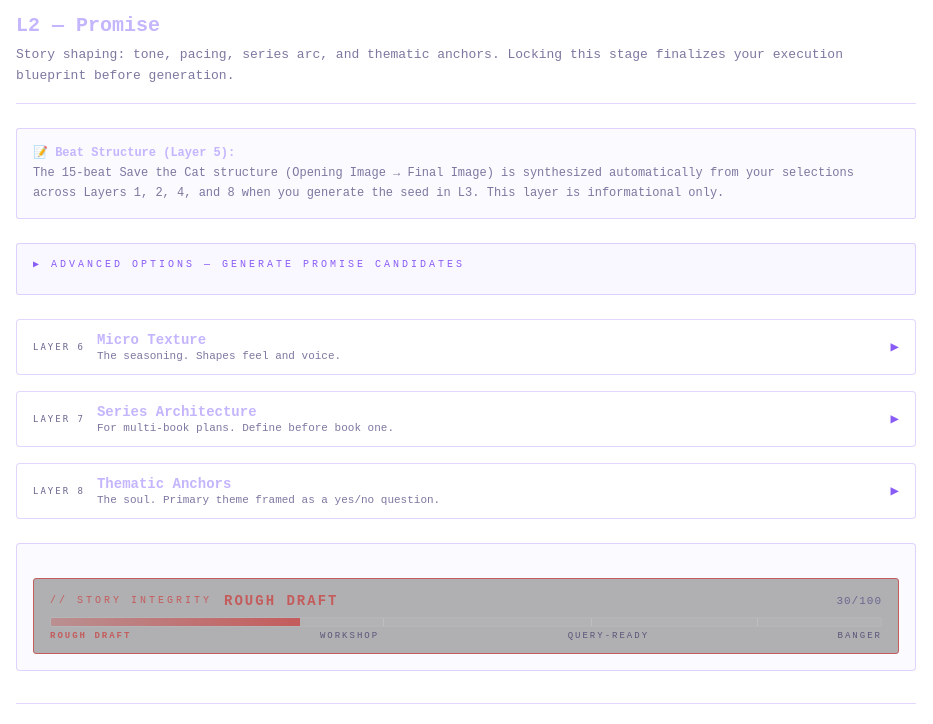
Test case: L2Promise › allows picking a candidate
# Open advanced options and generate
Click the text "▶ ADVANCED OPTIONS — GENERATE PROMISE CANDIDATES" at (249, 264), box 33,259 -> 465,270
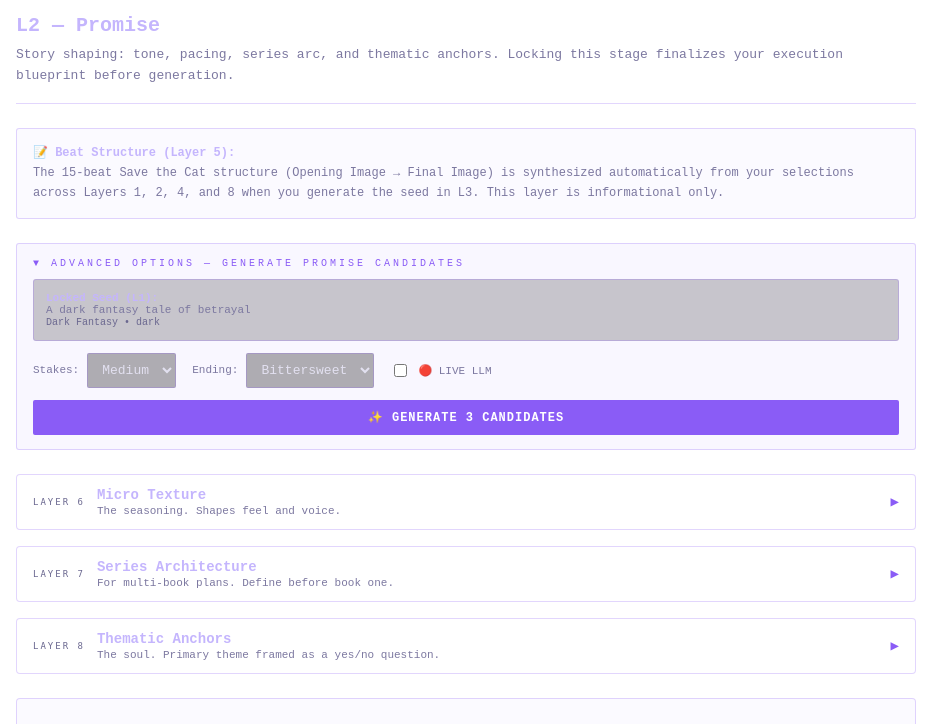
Click the button "✨ GENERATE 3 CANDIDATES" at (466, 417), box 33,400 -> 899,435
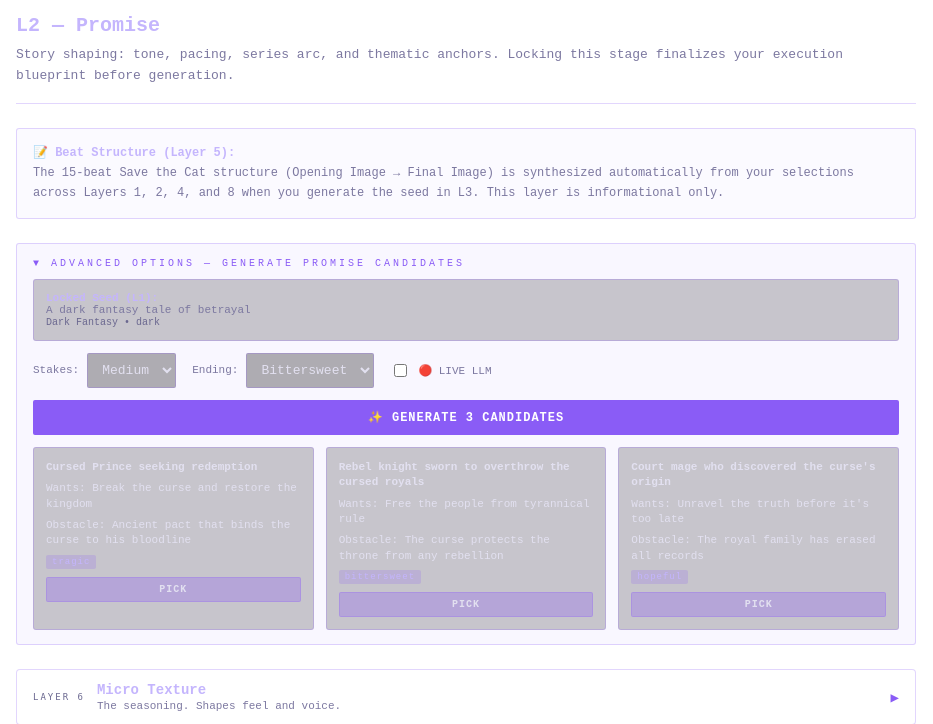
Check: the text "Cursed Prince seeking redemption" is shown, box 46,461 -> 257,473
# Pick the first candidate
Click the button "PICK" below "tragic" at (173, 589), box 46,577 -> 301,602
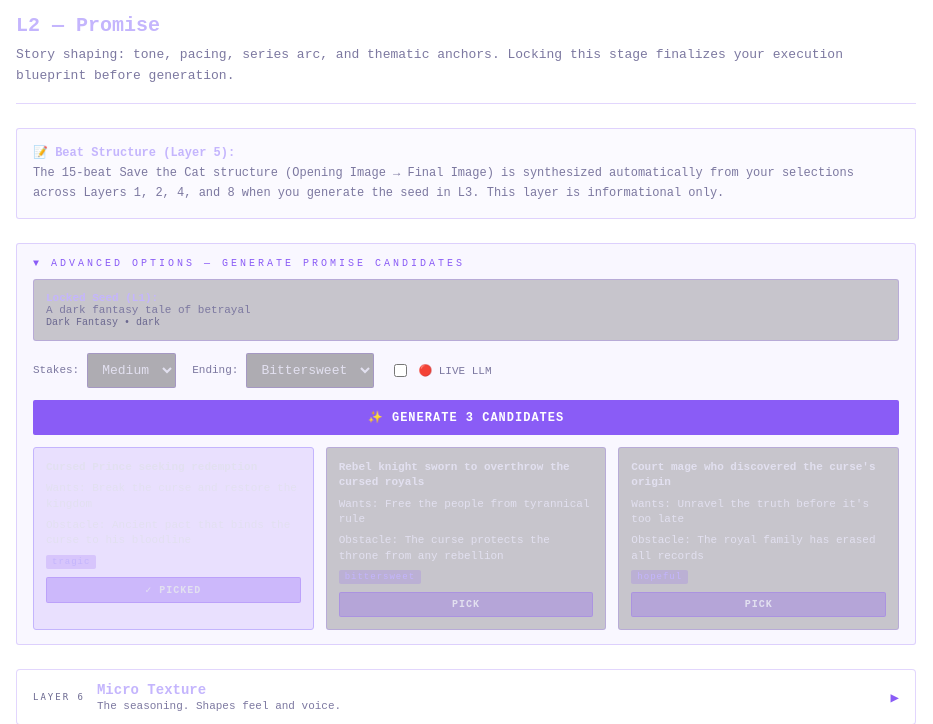
Check: the button "✓ PICKED" is shown, box 46,577 -> 301,603
